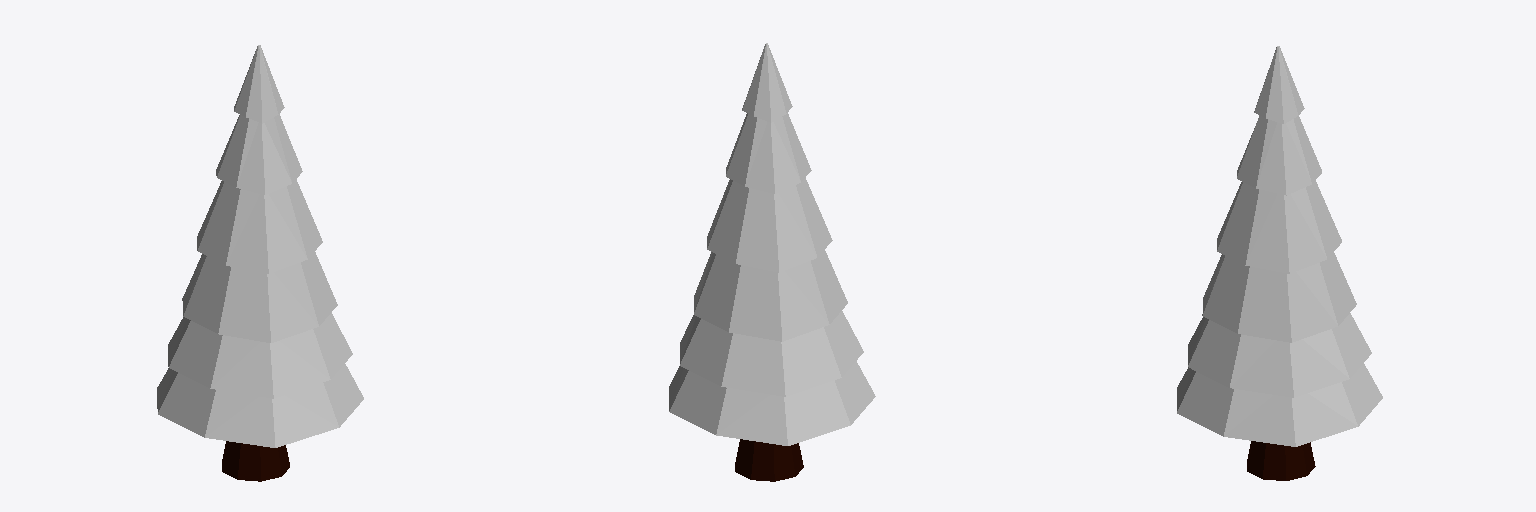
Rendered from lowpolytreeNotextureNoLight.obj.
3 renders of one model, left to right at view 1: azimuth 30°, elevation 25°; view 2: azimuth 150°, elevation 25°; view 3: azimuth 270°, elevation 25°, orthographic.
Parts seen in each view (by area): view 1: objMesh; view 2: objMesh; view 3: objMesh.
Boxes of the visible parts, x1,y1,x2,y2 form: objMesh: [157, 45, 363, 481]; objMesh: [669, 43, 875, 481]; objMesh: [1177, 46, 1382, 480].
Size of the model in its own units: 2.31 by 5.12 by 2.28.